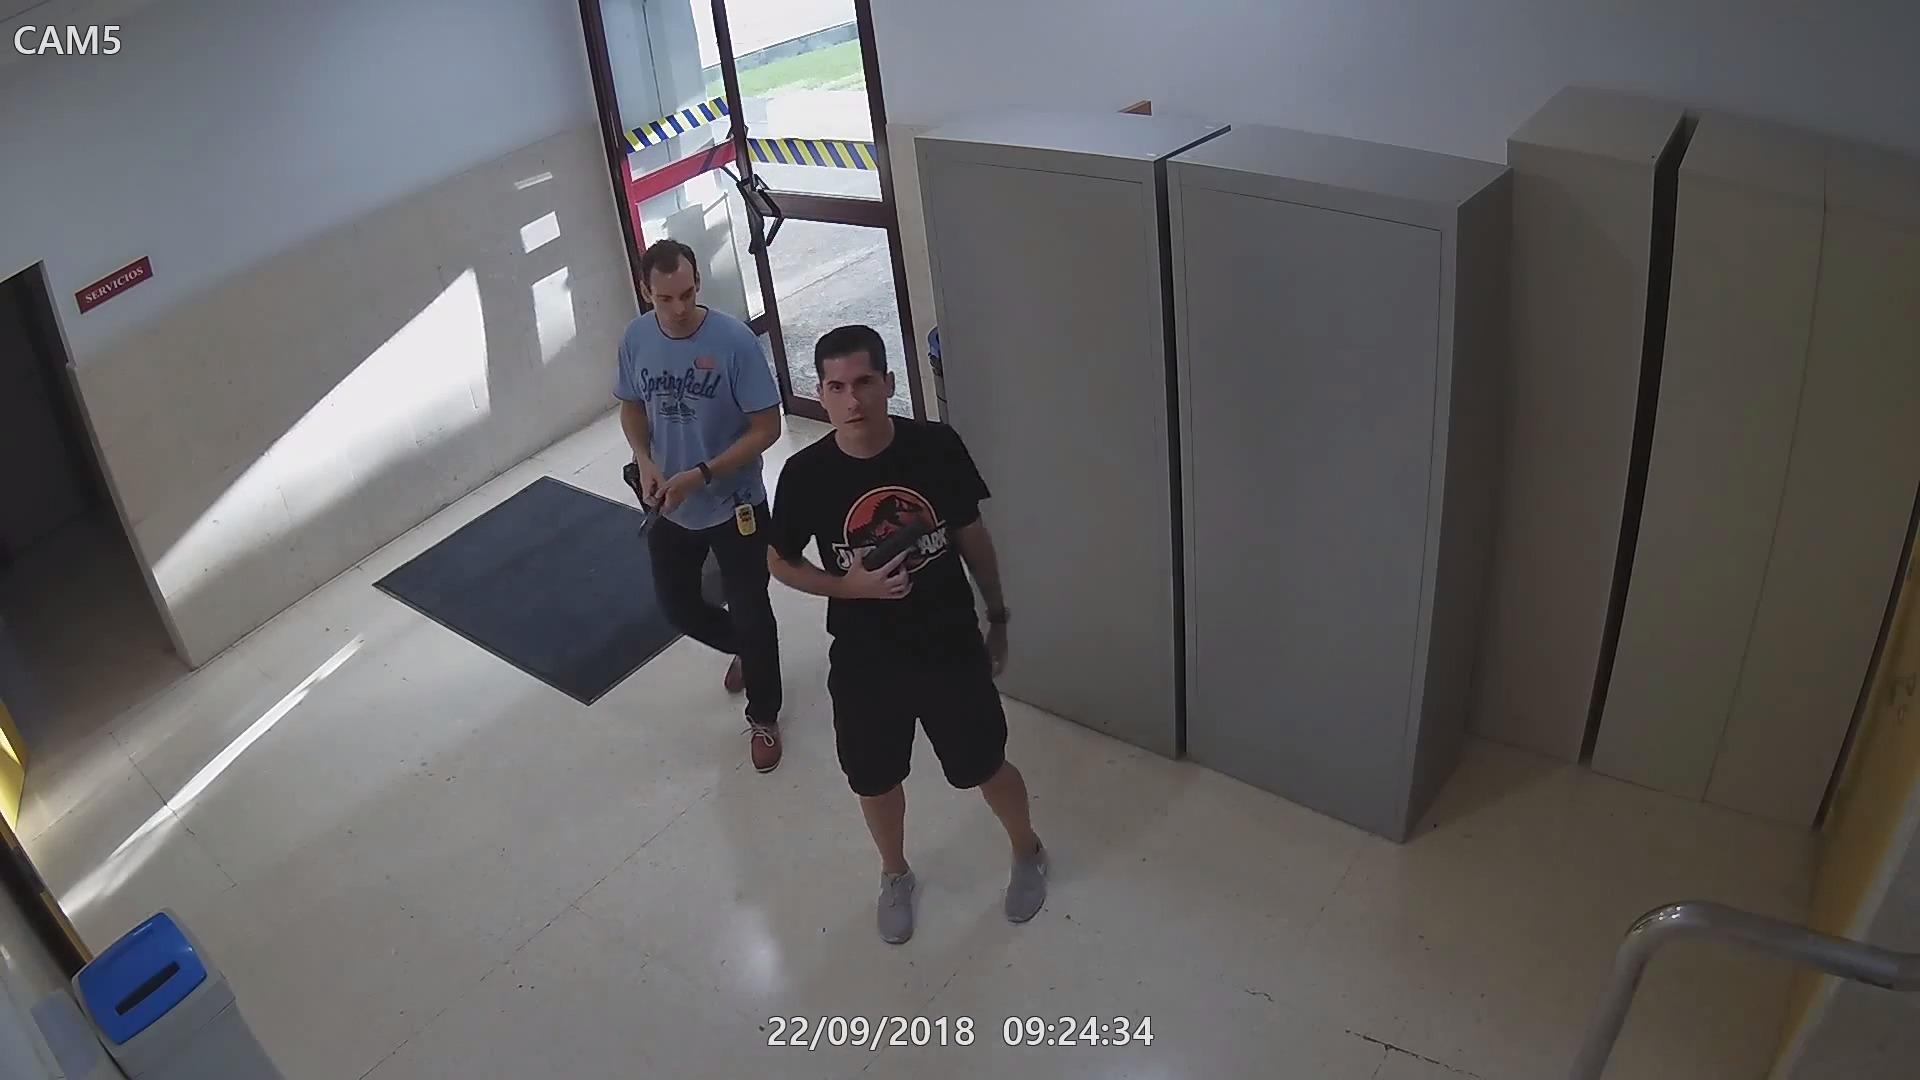Handgun: (843, 512, 934, 609)
Knife: (630, 465, 688, 545)
